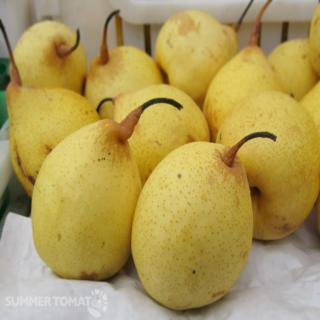Pear: (5, 0, 319, 310), (130, 137, 253, 310), (31, 119, 141, 284)
